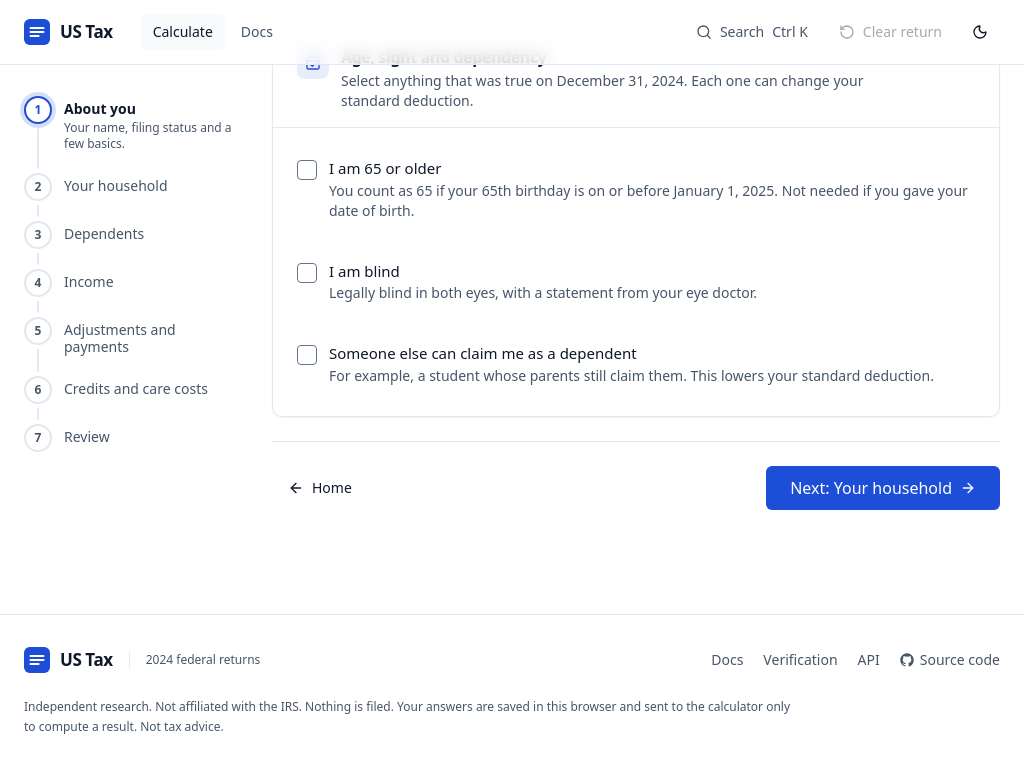
Test case: routing › Next waits for a filing status and says why
The image size is (1024, 768).
(page scrolled)
What coordinates should you click on to do the following:
click the button "Next: Your household"
I would click on:
 (883, 488)
Its box is [766,466,1000,510].
(page scrolled)
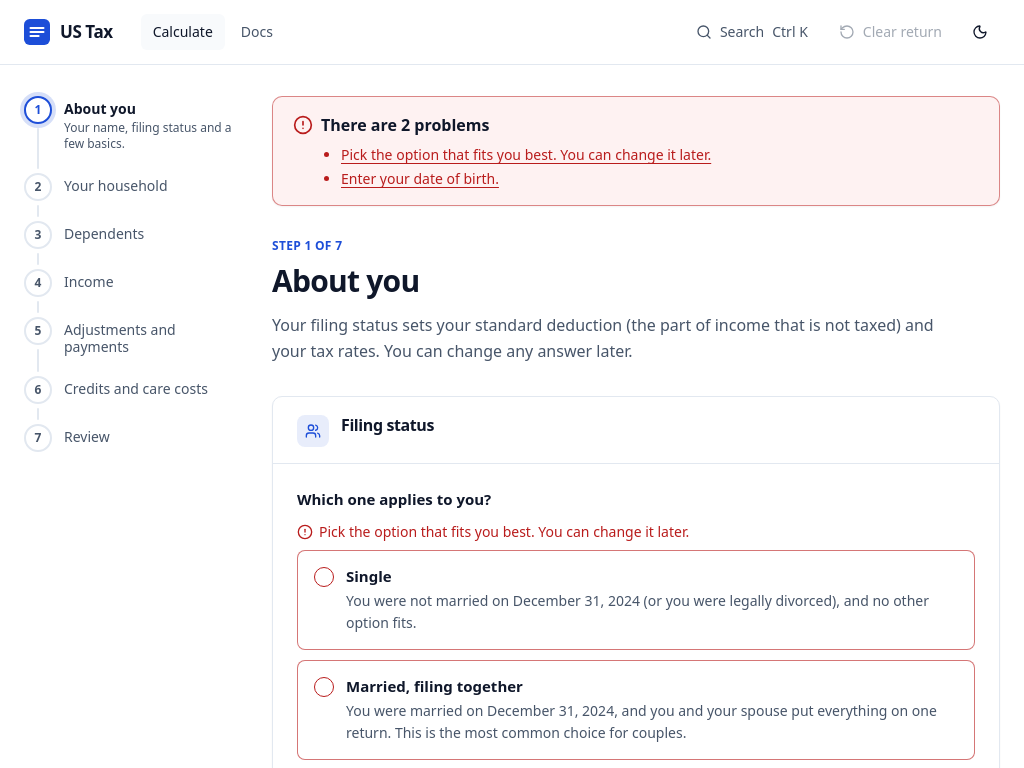
Expected: the heading "About you" is shown, [272,260,419,301]
Expected: the link "Pick the option that fits you best. You can change it later." is shown, [341,145,711,164]
